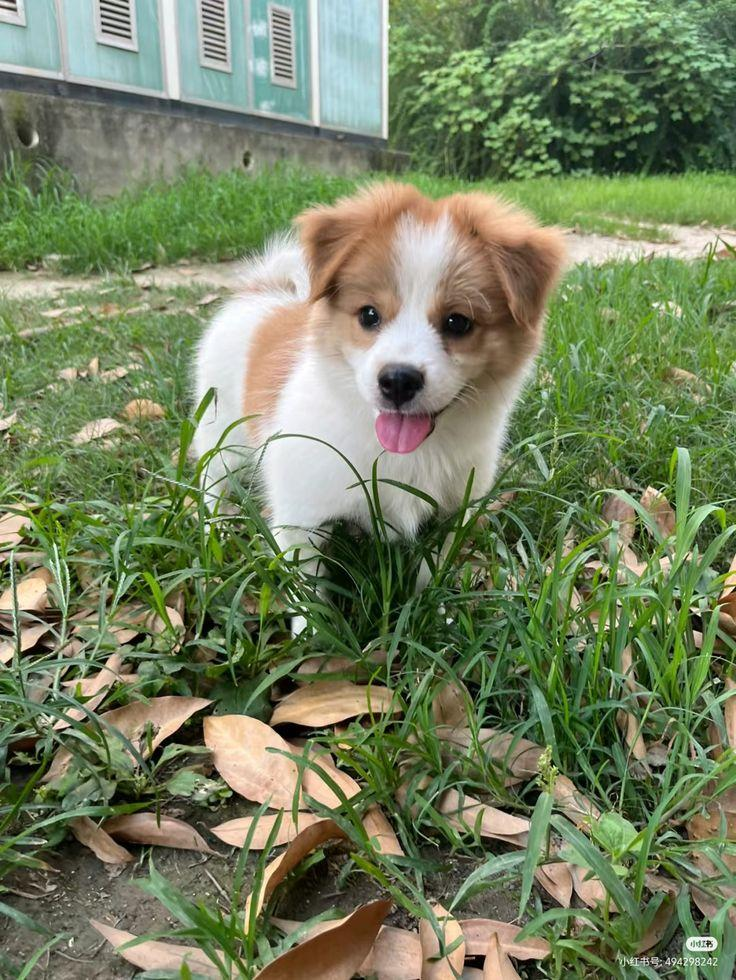dog: (196, 183, 563, 556)
